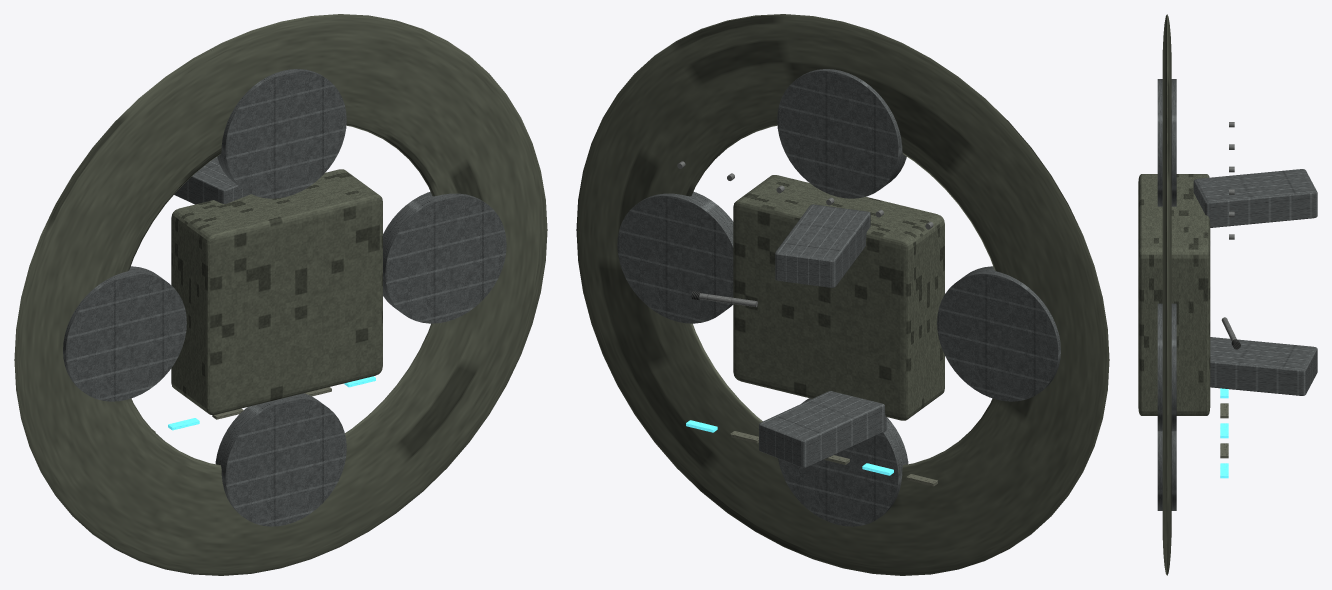
Rendered from v-u28-vanguard-repair-drone-lod0.glb.
The picture shows the model from 3 angles, left to right: view 1: azimuth 30°, elevation 25°; view 2: azimuth 150°, elevation 25°; view 3: azimuth 270°, elevation 25°; orthographic projection. The views are drawn at different scales.
Parts seen in each view (by area): view 1: drone_ring, drone_core, drone_fan_3, drone_fan_0, drone_fan_1, drone_fan_2, service_claw_1; view 2: drone_ring, drone_core, drone_fan_1, drone_fan_2, drone_fan_0, drone_fan_3, service_claw_-1, service_claw_1; view 3: drone_core, service_claw_1, drone_ring, service_claw_-1, drone_fan_0, drone_fan_1, drone_fan_3.
Part boxes in pixels (x1,y1,x2,y2): drone_ring: (14, 14, 547, 575); drone_core: (171, 169, 382, 414); drone_fan_3: (215, 393, 346, 526); drone_fan_0: (383, 191, 506, 323); drone_fan_1: (217, 69, 346, 198); drone_fan_2: (63, 266, 186, 401); service_claw_1: (174, 157, 250, 204); drone_ring: (576, 14, 1109, 575); drone_core: (733, 175, 944, 420); drone_fan_1: (777, 69, 906, 198); drone_fan_2: (937, 266, 1060, 401); drone_fan_0: (617, 191, 733, 323); drone_fan_3: (778, 398, 908, 526); service_claw_-1: (759, 391, 886, 467); service_claw_1: (775, 204, 870, 287); drone_core: (1138, 174, 1210, 415); service_claw_1: (1193, 169, 1317, 227); drone_ring: (1162, 14, 1171, 575); service_claw_-1: (1210, 337, 1317, 395); drone_fan_0: (1157, 303, 1176, 431); drone_fan_1: (1157, 79, 1176, 206); drone_fan_3: (1157, 431, 1176, 510).
Size of what is drawn, in the model's own units: 5.61 by 5.5 by 1.76.
Materials: 6 (6 with a texture image).
